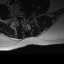CCS_normal: (23, 13, 25, 22)
LFS_severe_stenosis: (27, 12, 29, 18)
LLS_stenosis: (25, 13, 27, 19)
RFS_stenosis: (18, 13, 21, 19)
RLS_normal: (21, 13, 23, 20)
